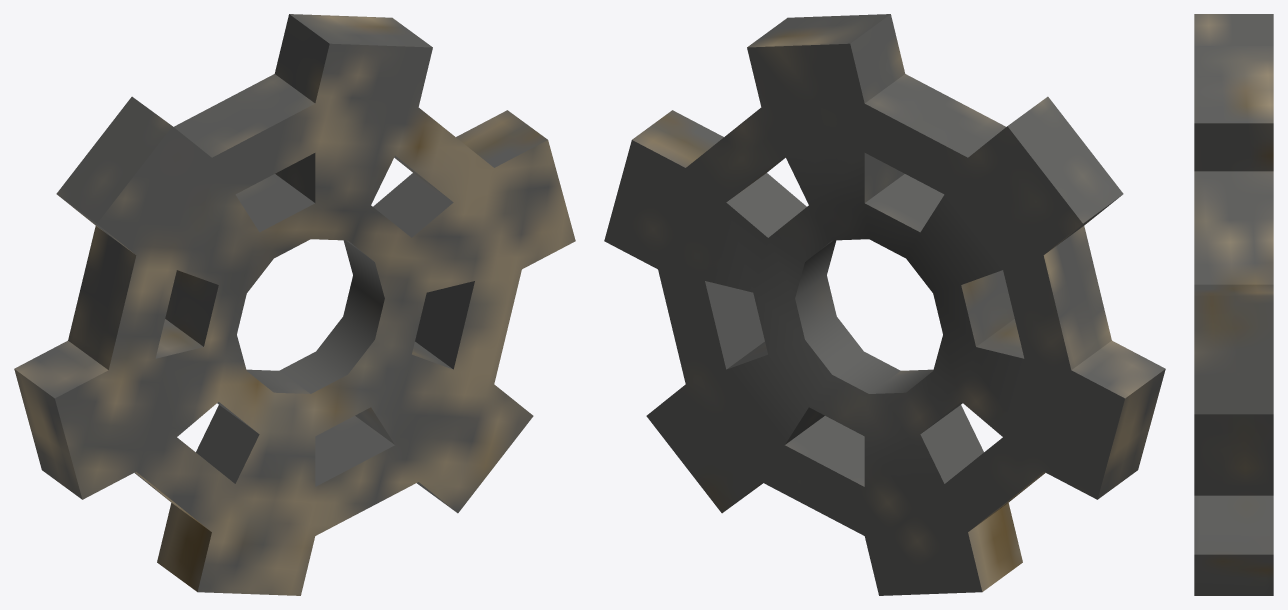
The model's file is Engrenagem_3.glb.
3 renders of one model, left to right at view 1: azimuth 30°, elevation 25°; view 2: azimuth 150°, elevation 25°; view 3: azimuth 270°, elevation 25°, orthographic. The views are drawn at different scales.
Visible parts, largest first — view 1: Engrenagem.3; view 2: Engrenagem.3; view 3: Engrenagem.3.
Boxes of the visible parts, x1=… form: Engrenagem.3: x1=14, y1=14, x2=575, y2=595; Engrenagem.3: x1=604, y1=14, x2=1165, y2=595; Engrenagem.3: x1=1194, y1=14, x2=1273, y2=595.
Size of the model in its own units: 0.3739 by 0.3739 by 0.0505.
Materials: 1 (1 with a texture image).
